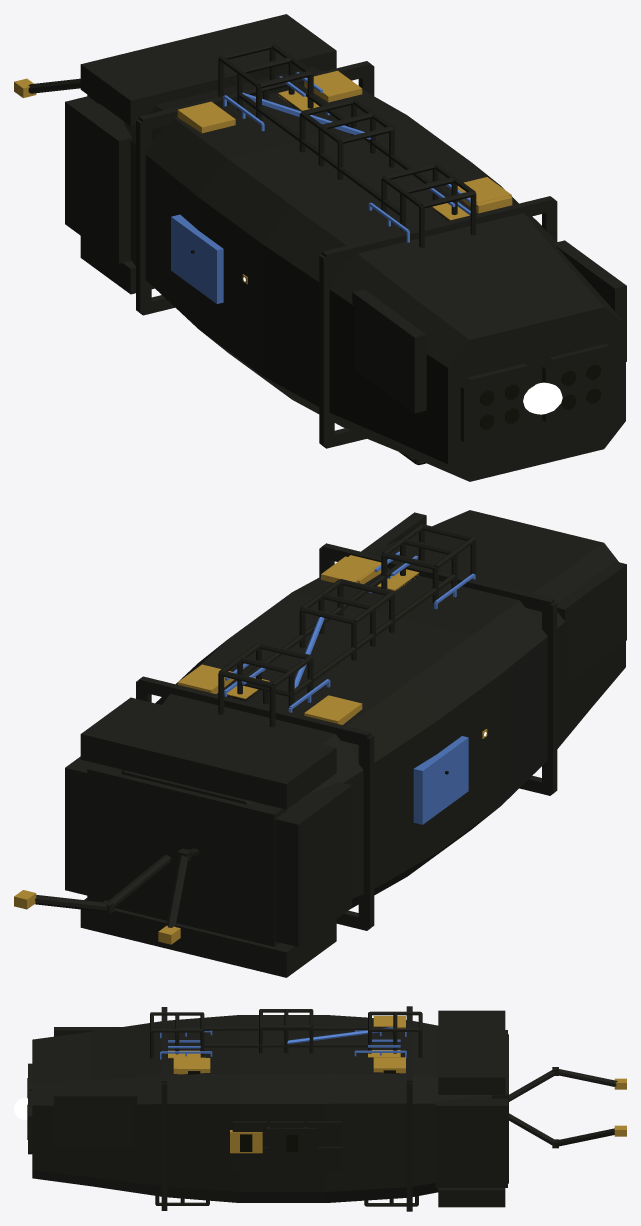
The picture shows the model from 3 angles, top to bottom: view 1: azimuth 30°, elevation 25°; view 2: azimuth 150°, elevation 25°; view 3: azimuth 270°, elevation 25°; orthographic projection. The views are drawn at different scales.
Parts seen in each view (by area): view 1: RIMWARD_HULL, RIMWARD_ENGINE_GLOW; view 2: RIMWARD_HULL; view 3: RIMWARD_HULL.
Part boxes in pixels (left/top/right/bottom): RIMWARD_HULL: left=14, top=14, right=626, bottom=481; RIMWARD_ENGINE_GLOW: left=523, top=382, right=562, bottom=414; RIMWARD_HULL: left=14, top=510, right=626, bottom=977; RIMWARD_HULL: left=27, top=1006, right=626, bottom=1211.
Size of the model in its own units: 5.47 by 5.52 by 16.96.
